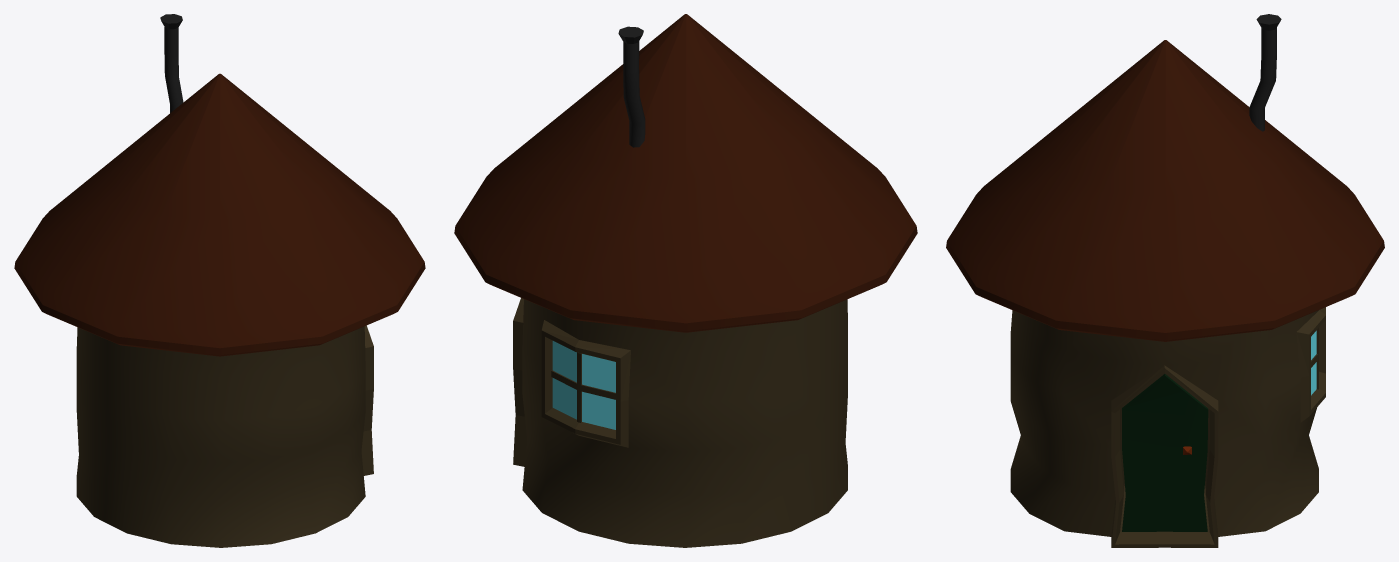
Rendered from GnomeHouseMapped.FBX.
The picture shows the model from 3 angles, left to right: view 1: azimuth 30°, elevation 25°; view 2: azimuth 150°, elevation 25°; view 3: azimuth 270°, elevation 25°; orthographic projection. The views are drawn at different scales.
Parts seen in each view (by area): view 1: Roof, Walls, Pipe; view 2: Roof, Walls, Window, Pipe; view 3: Roof, Walls, Door, Pipe.
Part boxes in pixels (x1,y1,x2,y2): Roof: (14,73,425,356); Walls: (76,325,373,547); Pipe: (160,14,183,112); Roof: (454,14,917,332); Walls: (513,298,847,547); Window: (552,341,615,429); Pipe: (618,26,645,147); Roof: (946,40,1384,341); Walls: (1010,307,1325,547); Door: (1122,374,1208,531); Pipe: (1249,14,1281,131).
Bounding box in the file's own units: 110 × 128 × 110.
